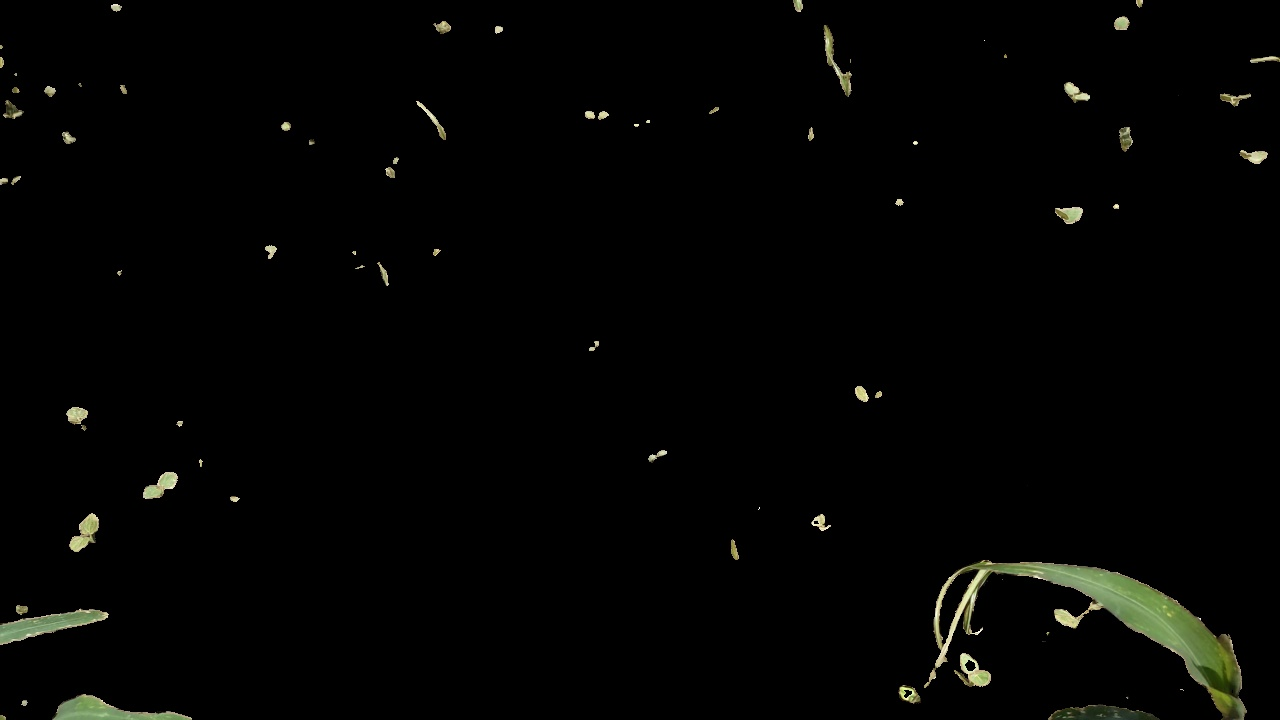crop: (899, 501, 1280, 720)
weed: (63, 515, 114, 562), (126, 471, 179, 504), (962, 648, 996, 694), (1045, 81, 1099, 101)
